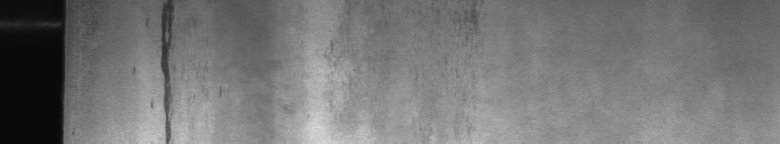hd: (151, 4, 176, 136)
